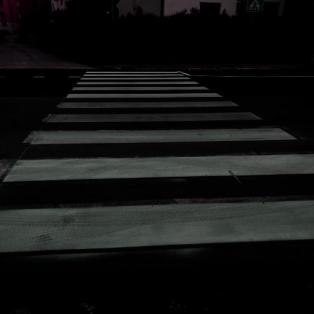Paso de Cebra: (16, 111, 306, 148), (62, 85, 227, 101)
